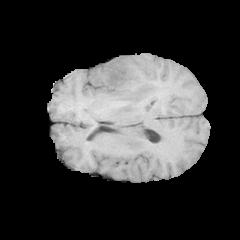glioma: (94, 56, 161, 108)
